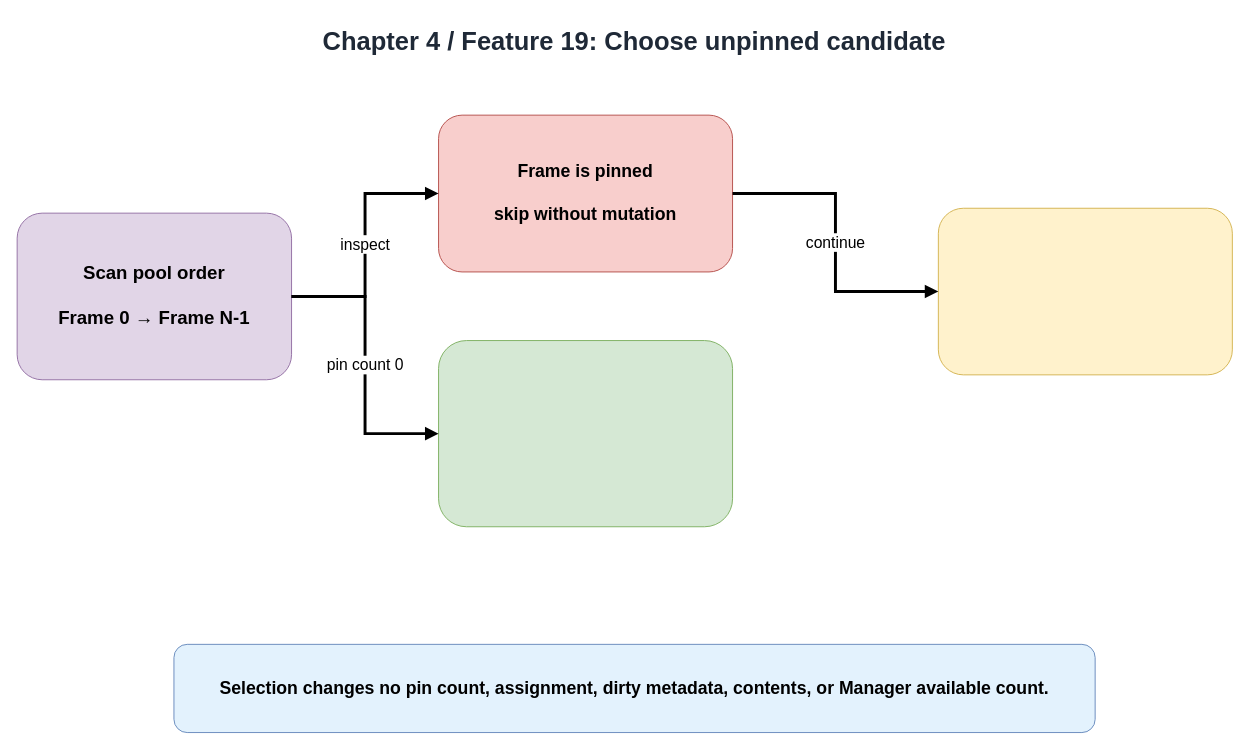
This 1250x750 diagram has some shape labels left out. Each missing label, with the centre of its shape:
"All frames pinned return nil, false" goes at (x=1084, y=291).
"Frame is unpinned return first candidate assigned/dirty is allowed" goes at (x=585, y=433).
